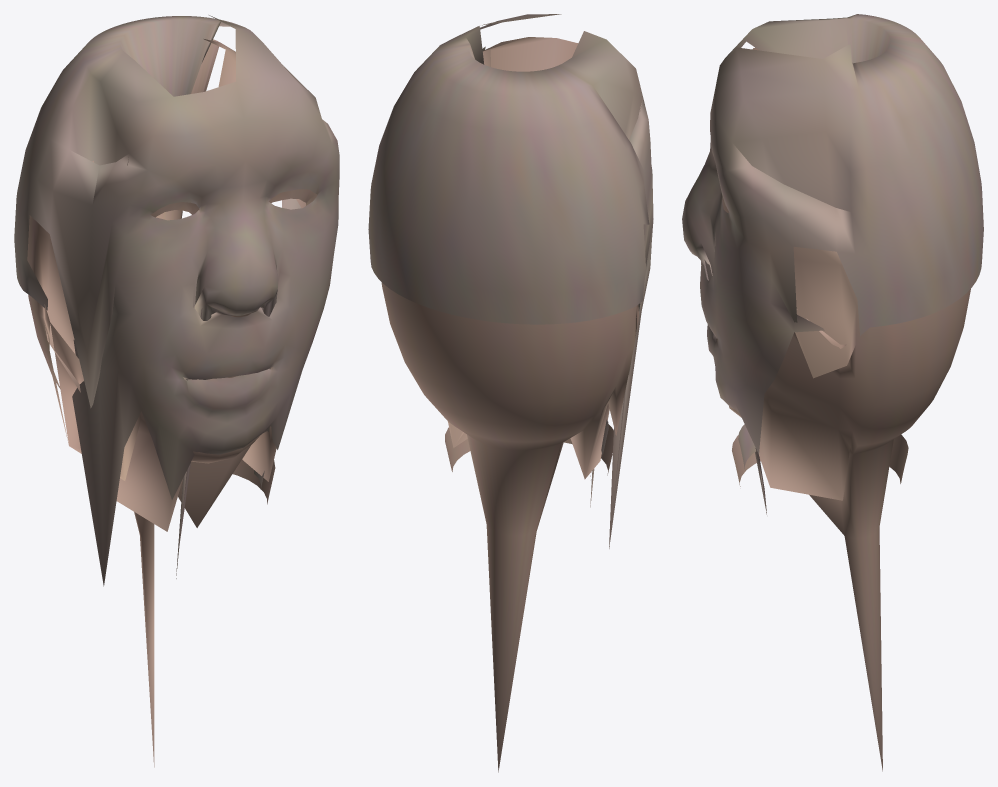
The picture shows the model from 3 angles, left to right: view 1: azimuth 30°, elevation 25°; view 2: azimuth 150°, elevation 25°; view 3: azimuth 270°, elevation 25°; orthographic projection. The views are drawn at different scales.
Visible parts, largest first — view 1: world; view 2: world; view 3: world.
Boxes of the visible parts, x1,y1,x2,y2 form: world: (14,15,339,767); world: (368,14,653,772); world: (682,14,983,771).
Size of the model in its own units: 0.1123 by 0.2922 by 0.1071.
